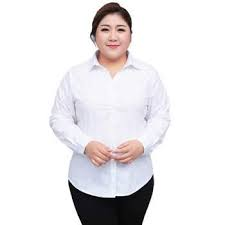S_shirt: (42, 45, 173, 199)
